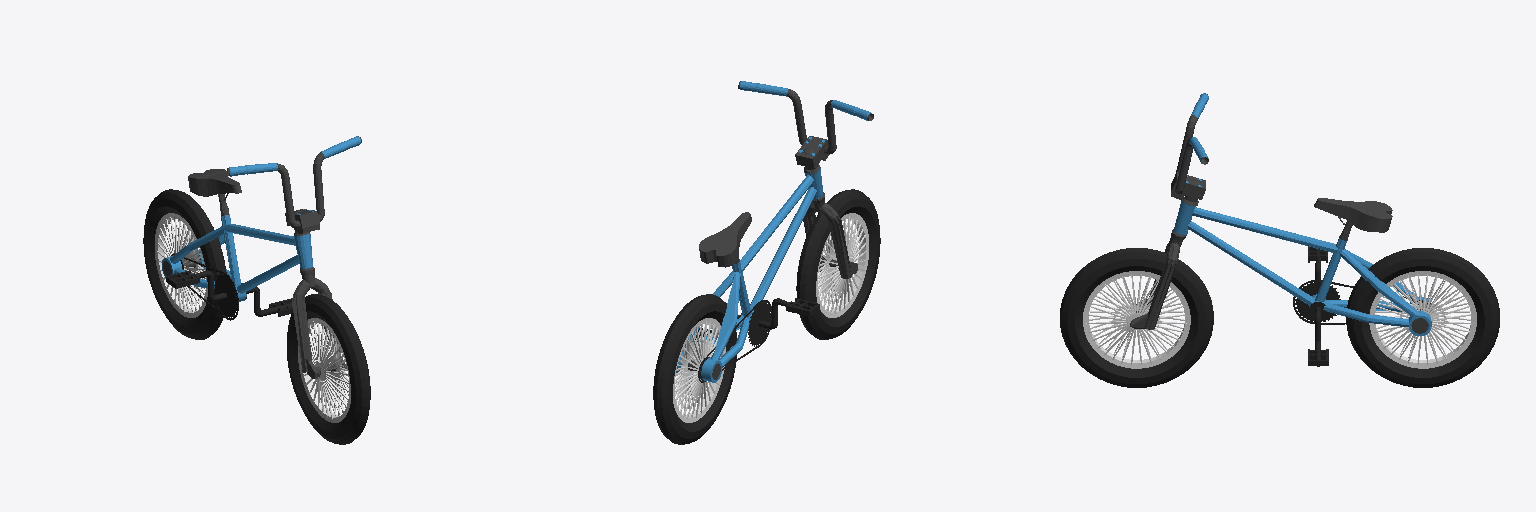
The model's file is childBike.obj.
3 renders of one model, left to right at view 1: azimuth 30°, elevation 25°; view 2: azimuth 150°, elevation 25°; view 3: azimuth 270°, elevation 25°, orthographic.
Parts seen in each view (by area): view 1: Torus_9, 7, 6, Torus_384_10, 4, 8, 3, 1, 2; view 2: 6, 7, Torus_9, Torus_384_10, 8, 4, 3, 1; view 3: Torus_9, 7, 6, Torus_384_10, 8, 4, 3, 1.
Part boxes in pixels (x1,y1,x2,y2): Torus_9: (287, 294, 370, 444); 7: (143, 189, 226, 339); 6: (170, 136, 360, 293); Torus_384_10: (298, 318, 350, 422); 4: (219, 136, 361, 378); 8: (155, 213, 207, 317); 3: (163, 169, 319, 275); 1: (166, 253, 292, 320); 2: (196, 270, 291, 316); 6: (682, 81, 870, 367); 7: (653, 294, 736, 444); Torus_9: (796, 189, 880, 339); Torus_384_10: (816, 213, 868, 317); 8: (673, 318, 725, 422); 4: (735, 81, 873, 278); 3: (688, 136, 829, 379); 1: (695, 298, 819, 382); Torus_9: (1060, 248, 1213, 387); 7: (1346, 248, 1499, 387); 6: (1174, 93, 1419, 326); Torus_384_10: (1083, 271, 1190, 368); 8: (1369, 271, 1476, 368); 4: (1130, 93, 1351, 329); 3: (1171, 172, 1428, 333); 1: (1293, 246, 1430, 365).
Size of the model in its own units: 40.7 by 76.5 by 116.